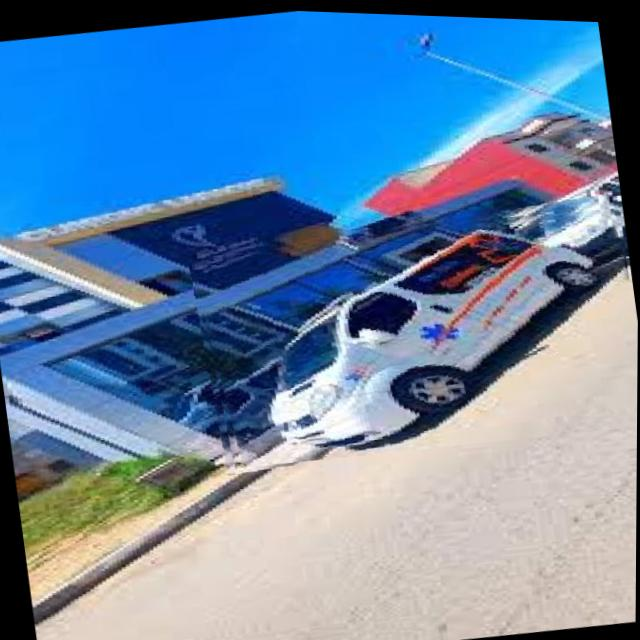ambulance: (187, 182, 639, 481)
